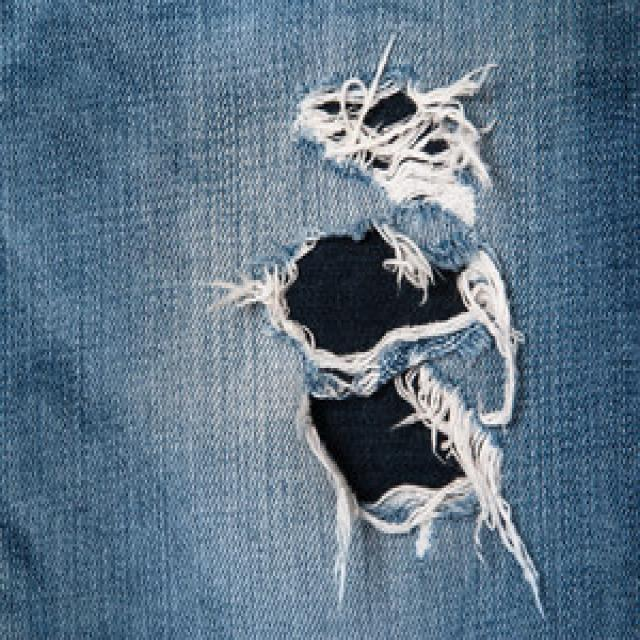Hole: (217, 34, 543, 614)
